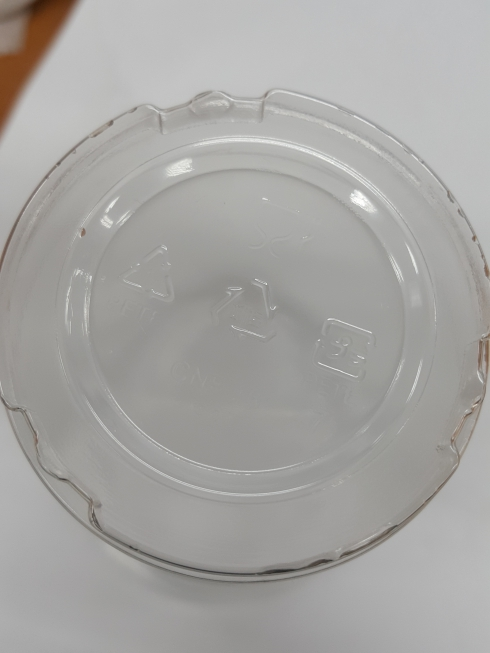recycle: (110, 214, 188, 341)
